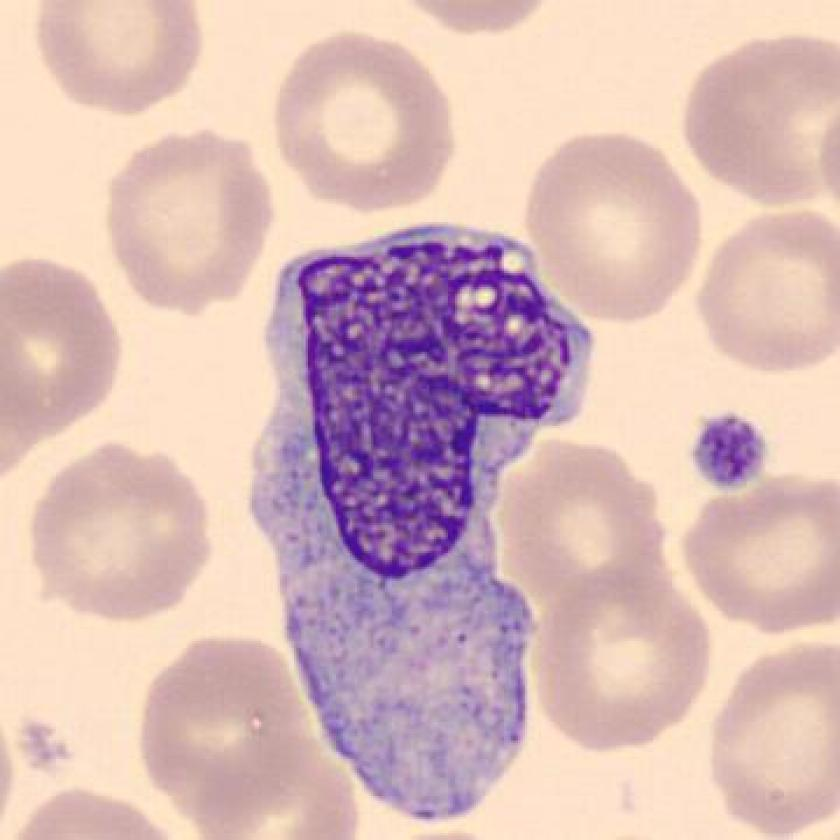monocyte: (232, 209, 615, 832)
